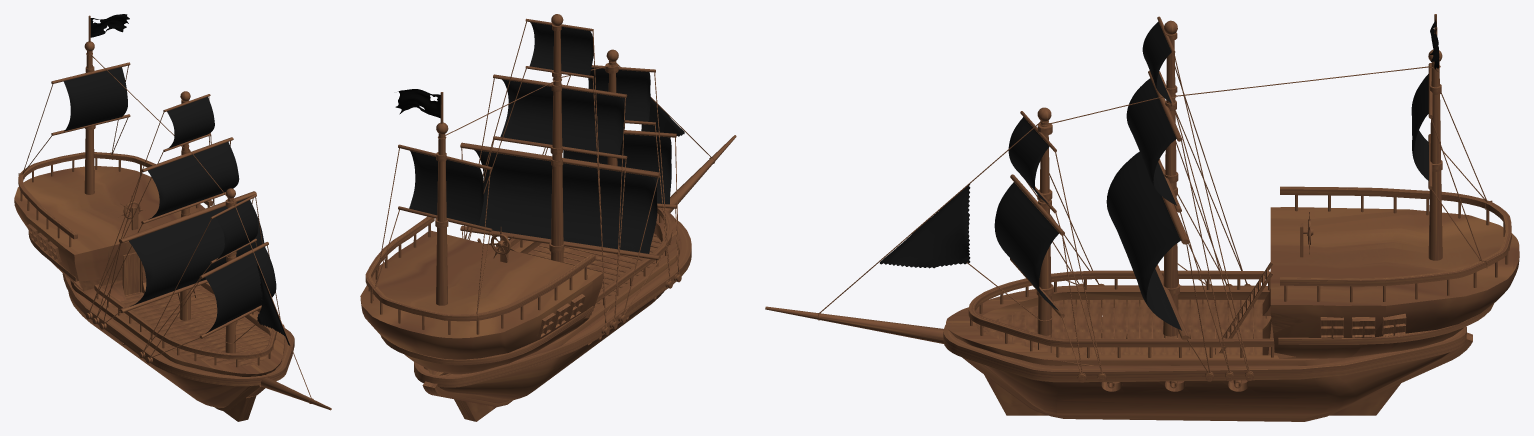
Rendered from Pirate Ship (2).fbx.
3 renders of one model, left to right at view 1: azimuth 30°, elevation 25°; view 2: azimuth 150°, elevation 25°; view 3: azimuth 270°, elevation 25°, orthographic. The views are drawn at different scales.
Parts seen in each view (by area): view 1: Object003, Object001, Polygon_Reduction_1, Object004, Object002; view 2: Object003, Object001, Polygon_Reduction_1, Object002, Object004; view 3: Object003, Polygon_Reduction_1, Object001, Object004, Object002, window.
Boxes of the visible parts, <box> form: Object003: <box>14,51,331,421</box>; Object001: <box>63,14,289,345</box>; Polygon_Reduction_1: <box>18,15,313,403</box>; Object004: <box>27,224,61,262</box>; Object002: <box>90,14,288,342</box>; Object003: <box>360,30,736,421</box>; Object001: <box>395,22,684,253</box>; Polygon_Reduction_1: <box>368,14,714,387</box>; Object002: <box>396,22,682,252</box>; Object004: <box>536,294,585,337</box>; Object003: <box>765,40,1519,421</box>; Polygon_Reduction_1: <box>818,14,1509,391</box>; Object001: <box>879,19,1439,330</box>; Object004: <box>1320,313,1406,337</box>; Object002: <box>1039,22,1438,328</box>; window: <box>1321,318,1405,335</box>.
Bounding box in the file's own units: 603 × 1877 × 1114.
